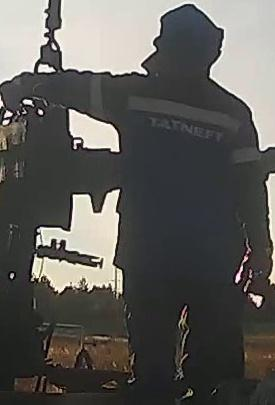gloves: (238, 213, 275, 297), (0, 71, 48, 114)
vest: (91, 70, 250, 286)
